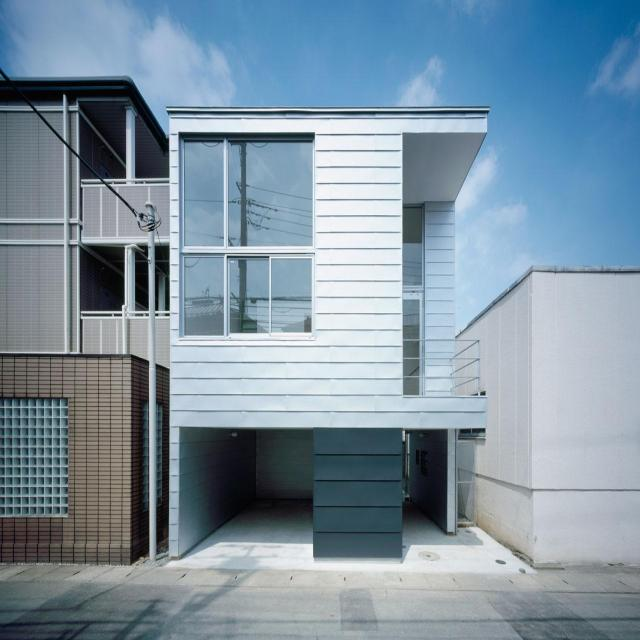Railing: (404, 338, 483, 394)
wall: (167, 107, 487, 557)
windows: (183, 139, 312, 246), (184, 254, 311, 335), (404, 205, 422, 338)
